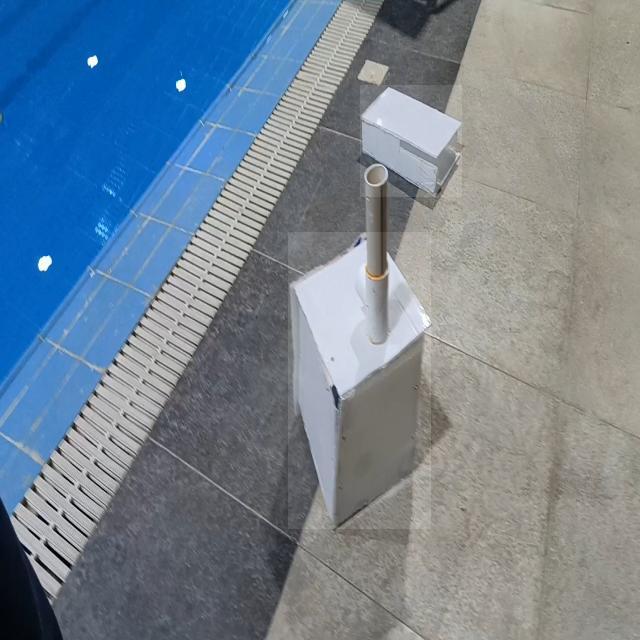Cube: (288, 232, 431, 529)
Cuboid: (360, 85, 462, 197)
